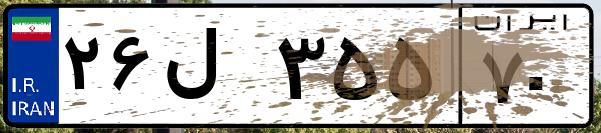0: (525, 38, 570, 115)
2: (57, 26, 110, 100)
3: (270, 28, 330, 110)
5: (385, 28, 445, 110), (330, 28, 385, 110)
6: (110, 28, 158, 98)
7: (475, 38, 525, 113)
ل: (158, 20, 270, 120)
